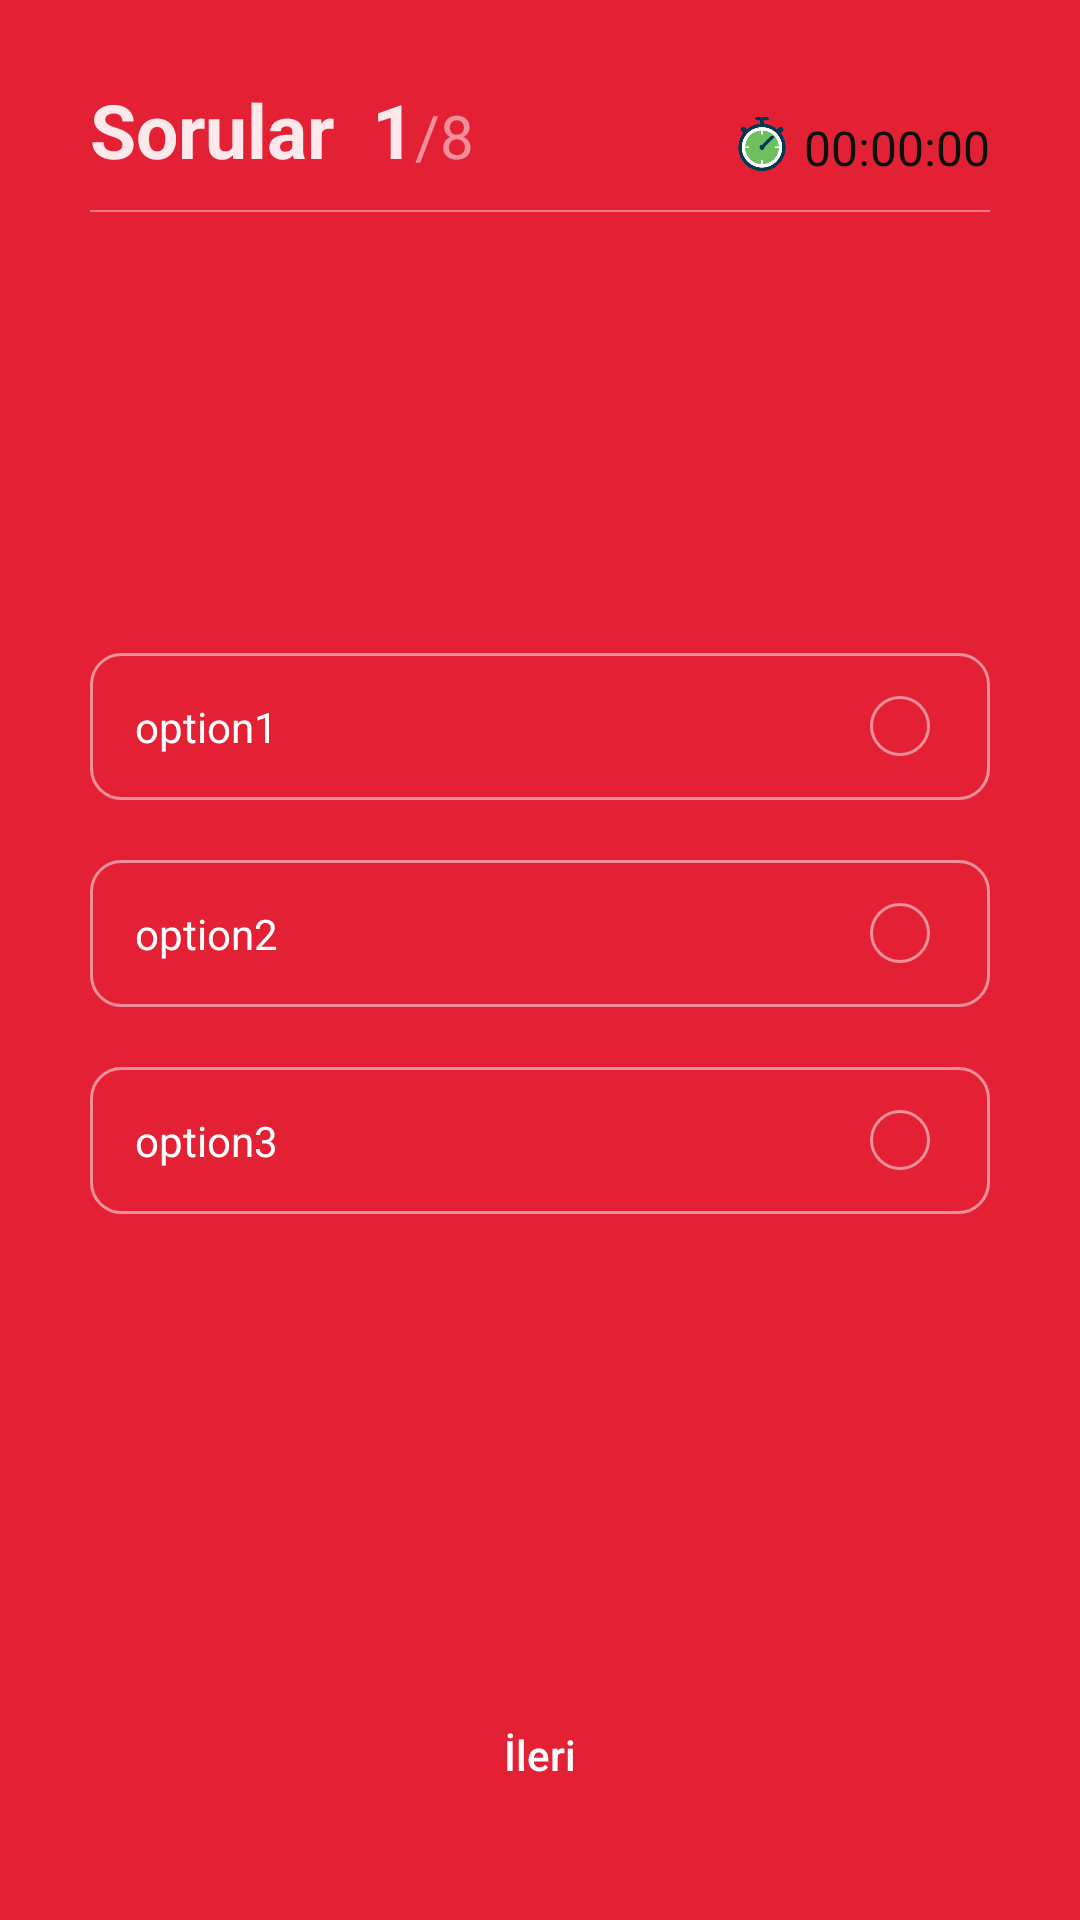

Locate icon controls on the screen. Image size 1080*1920, boxes as (x1, y1, x2, y2).
timer: (738, 117, 786, 171)
